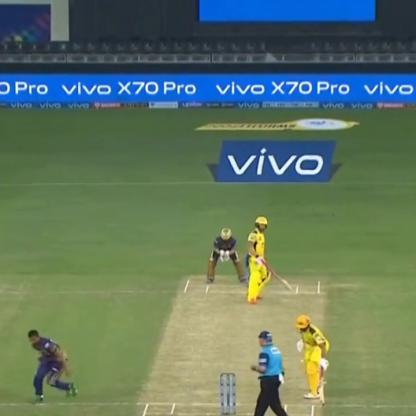pitch: (136, 271, 334, 415)
